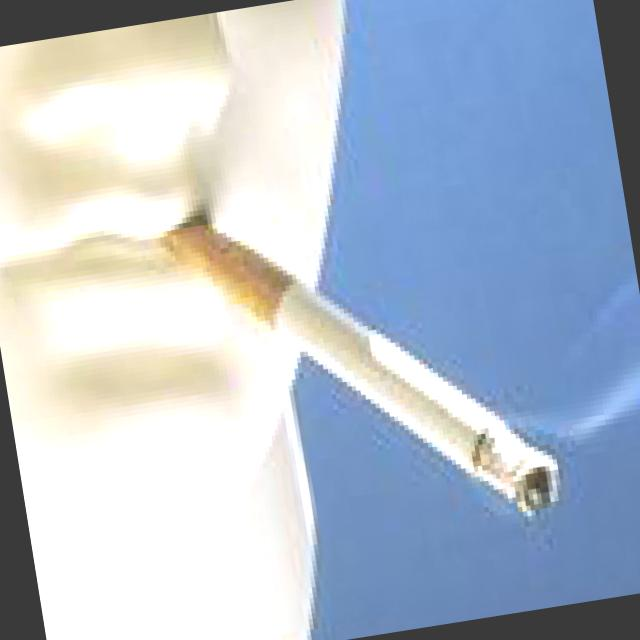cigarette: (198, 180, 567, 562)
